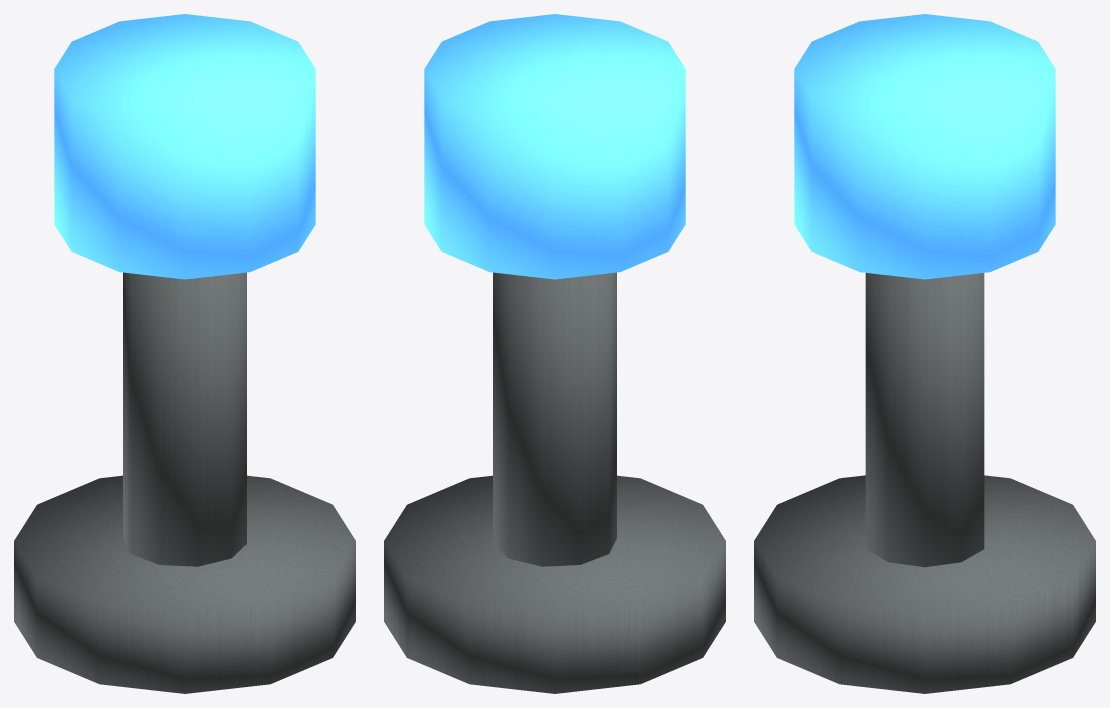
Rendered from PZ_Taxiway_EdgeLight_Blue.glb.
3 views of the same model, side by side, from view 1: azimuth 30°, elevation 25°; view 2: azimuth 150°, elevation 25°; view 3: azimuth 270°, elevation 25° (orthographic).
Visible parts, largest first — view 1: Fixture_BLUE_Lens, Fixture_BLUE_Base, Fixture_BLUE_Stem; view 2: Fixture_BLUE_Lens, Fixture_BLUE_Base, Fixture_BLUE_Stem; view 3: Fixture_BLUE_Lens, Fixture_BLUE_Base, Fixture_BLUE_Stem.
Boxes of the visible parts, x1,y1,x2,y2 form: Fixture_BLUE_Lens: (54, 14, 315, 279); Fixture_BLUE_Base: (14, 475, 355, 693); Fixture_BLUE_Stem: (123, 272, 246, 566); Fixture_BLUE_Lens: (424, 14, 685, 279); Fixture_BLUE_Base: (384, 475, 725, 693); Fixture_BLUE_Stem: (493, 272, 616, 566); Fixture_BLUE_Lens: (794, 14, 1055, 279); Fixture_BLUE_Base: (754, 475, 1095, 693); Fixture_BLUE_Stem: (865, 273, 984, 567).
Bounding box in the file's own units: 0.23 × 0.41 × 0.23.
Materials: 2 (1 with a texture image).
